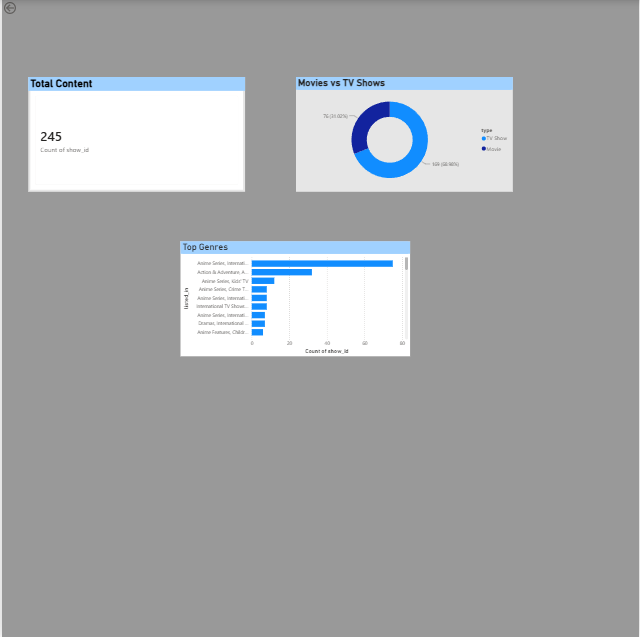

The dashboard page shown, as its layout file describes it:
{"tool":"powerbi","page":{"name":"Country Details","canvas":[1600,1600],"ordinal":1},"visuals":[{"type":"actionButton","box":[0,0,100,40],"z":0},{"type":"cardVisual","title":"Total Content","fields":{"Data":["CountNonNull(Cleaned_Data.show_id)"]},"box":[64,192,544,288],"z":1000},{"type":"donutChart","title":"Movies vs TV Shows","fields":{"Category":["Cleaned_Data.type"],"Y":["CountNonNull(Cleaned_Data.show_id)"]},"box":[736,192,544,288],"z":2000},{"type":"clusteredBarChart","title":"Top Genres","fields":{"Category":["Cleaned_Data.listed_in"],"Y":["CountNonNull(Cleaned_Data.show_id)"]},"box":[448,608,576,288],"z":3000}]}

Visuals, with their boxes in screenshot pixels (x1, y1, x2, y2):
actionButton: select_region(0, 2, 14, 17)
"Total Content" cardVisual: select_region(0, 77, 214, 190)
"Movies vs TV Shows" donutChart: select_region(264, 77, 477, 190)
"Top Genres" clusteredBarChart: select_region(151, 240, 377, 353)
